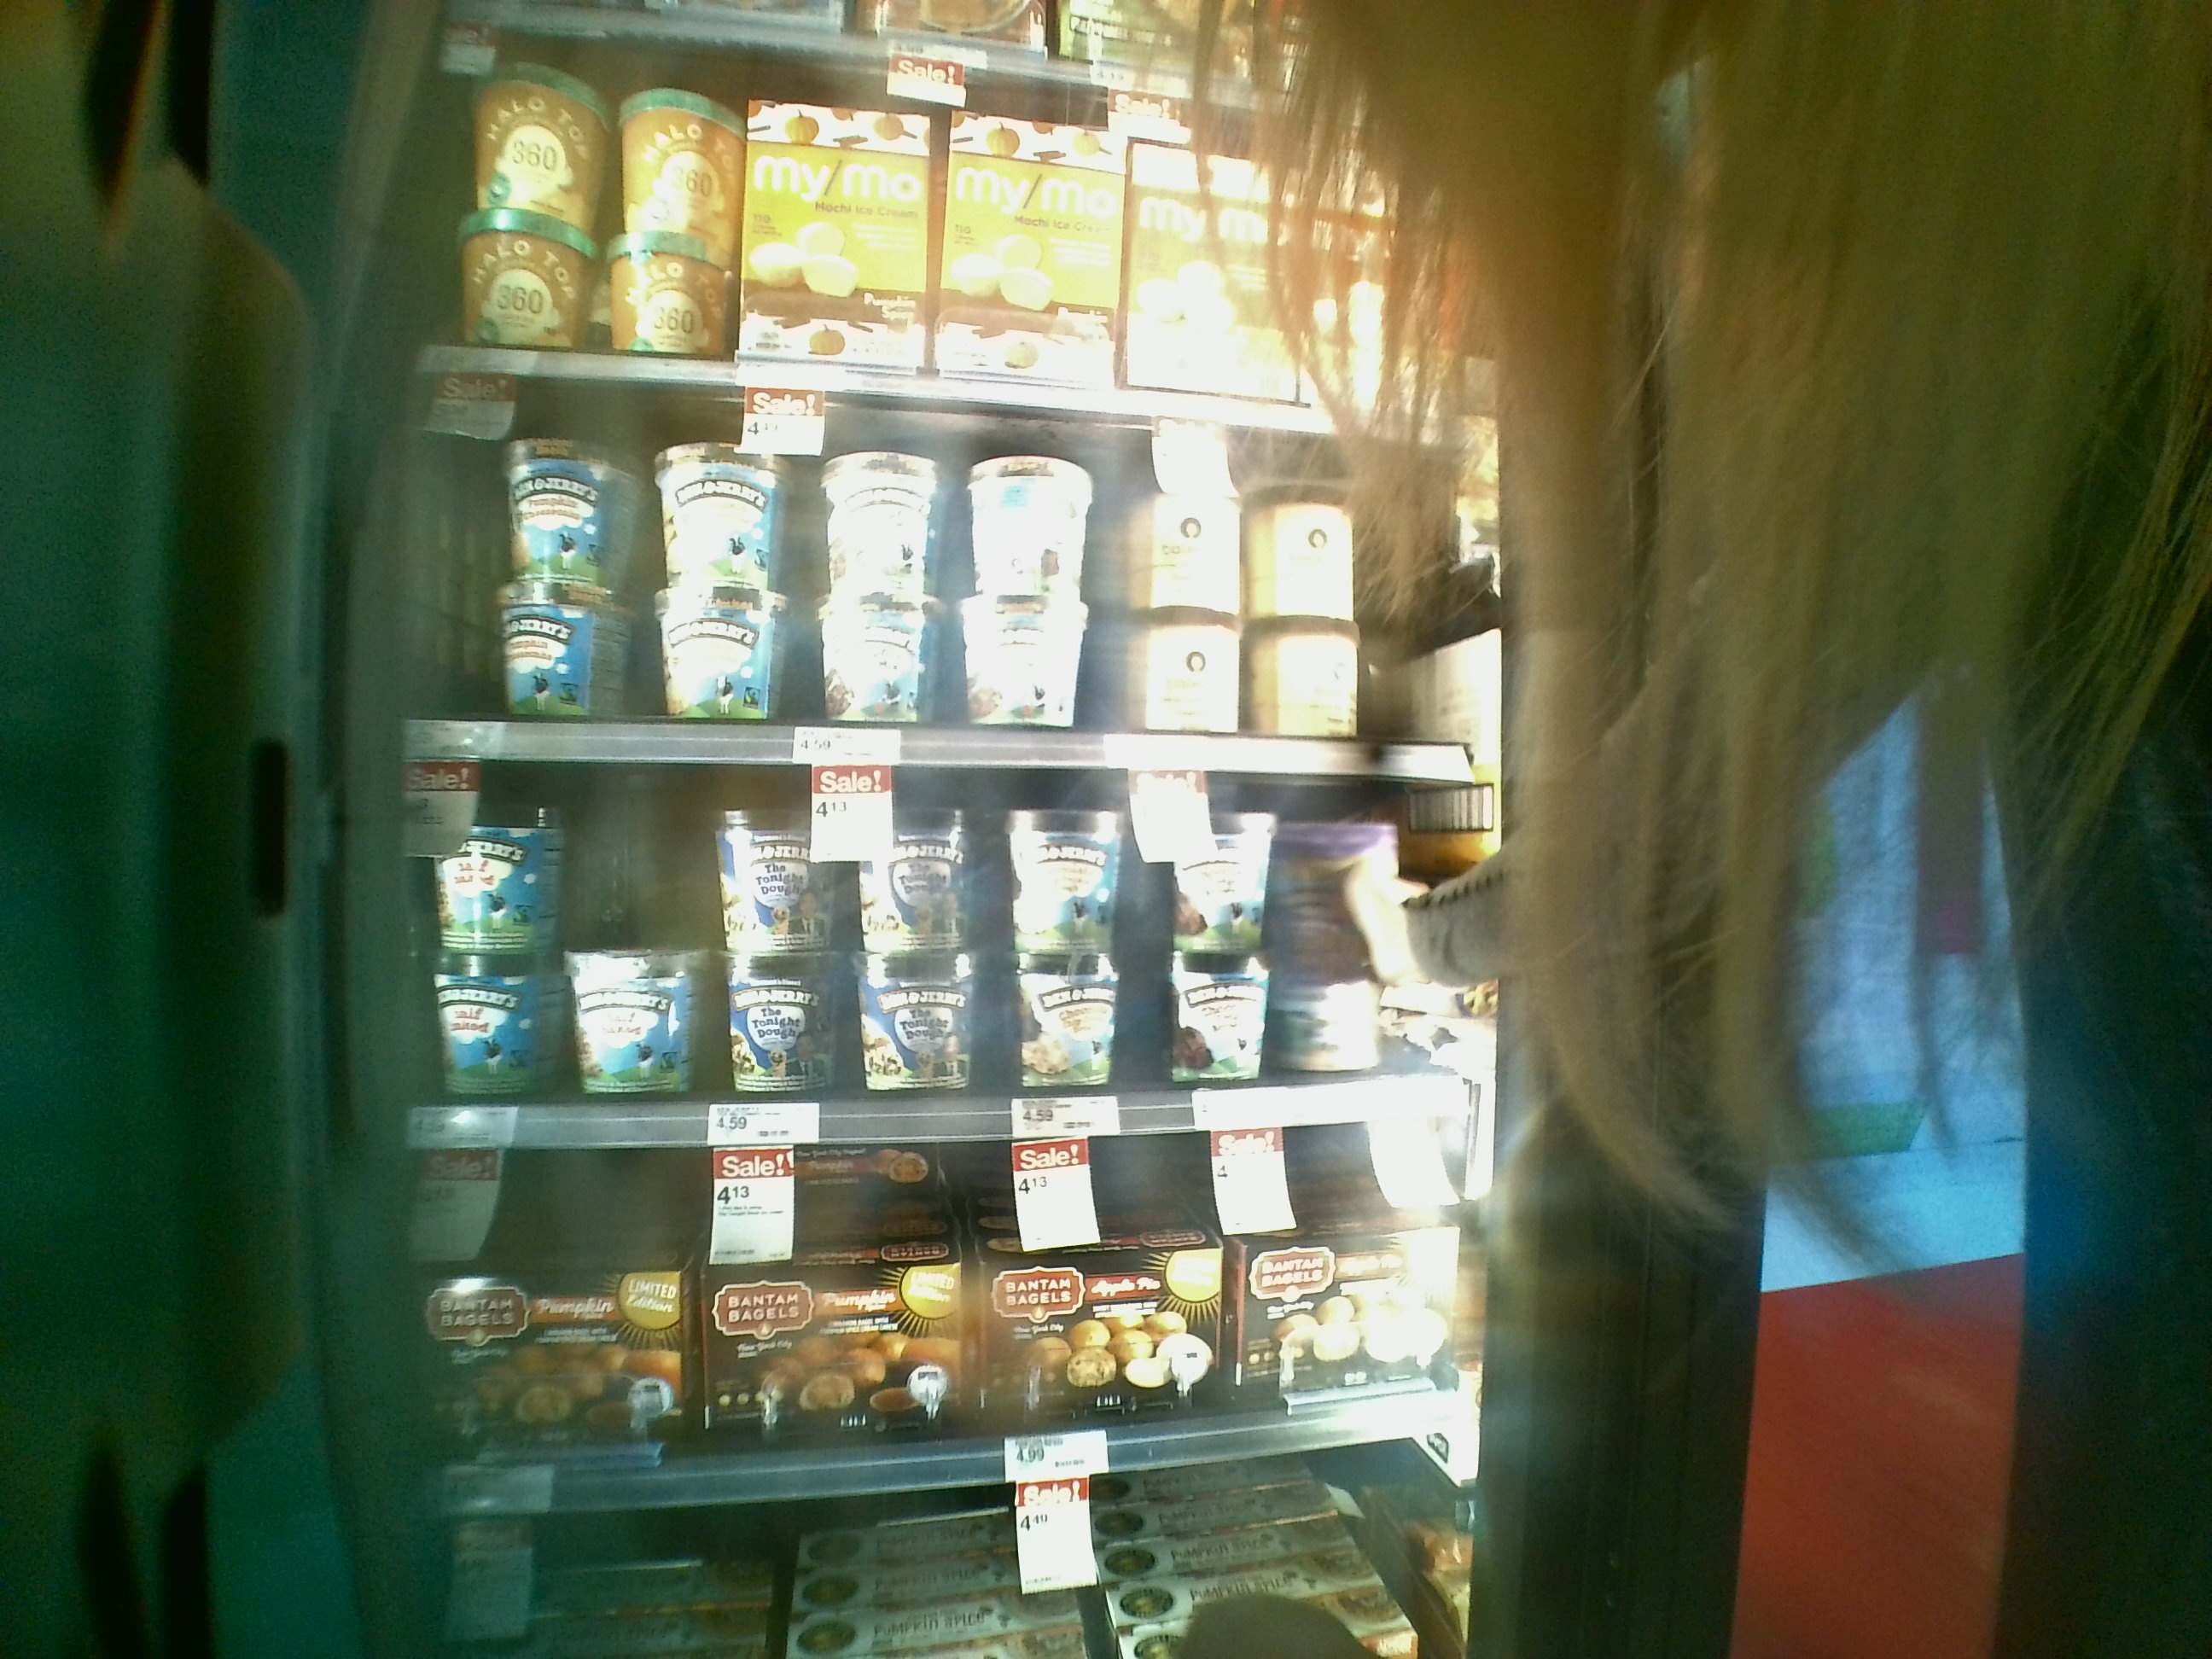shelf: (387, 368, 1503, 788), (381, 1121, 1491, 1497), (381, 769, 1491, 1138)
